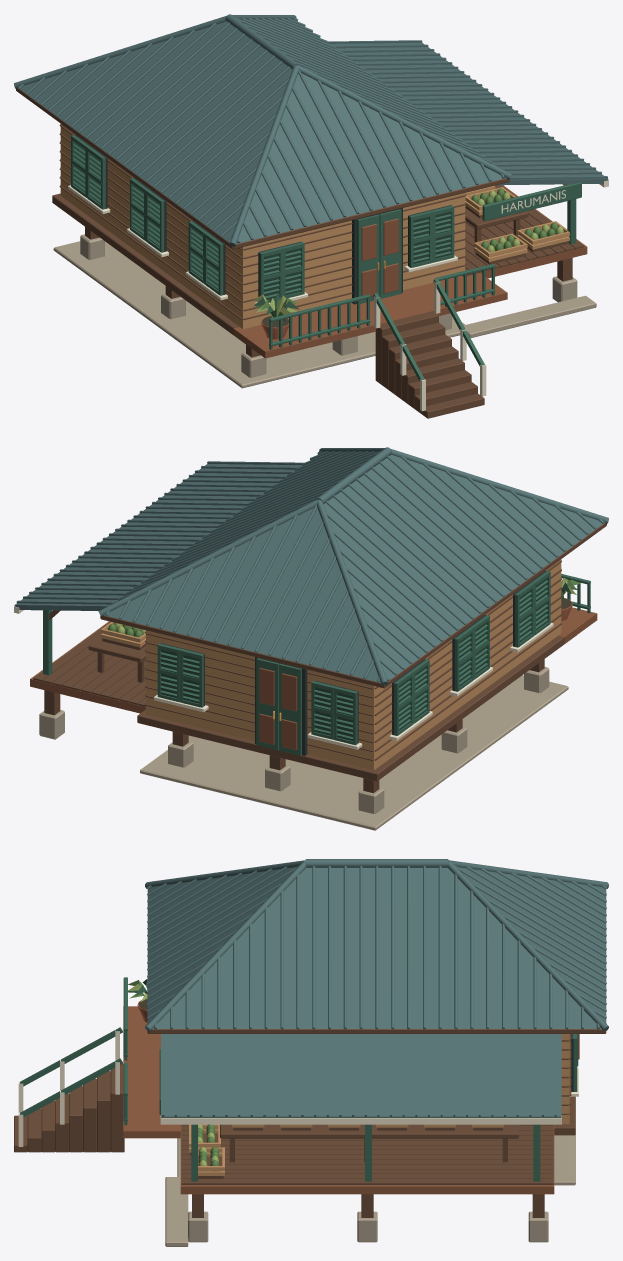
The picture shows the model from 3 angles, top to bottom: view 1: azimuth 30°, elevation 25°; view 2: azimuth 150°, elevation 25°; view 3: azimuth 270°, elevation 25°; orthographic projection. The views are drawn at different scales.
Parts seen in each view (by area): view 1: Main zinc bumbung, Raised plank house, Sorting porch, Louvred shutters, Entrance joinery, Slatted mango trays, Porch croton; view 2: Main zinc bumbung, Raised plank house, Sorting porch, Louvred shutters, Entrance joinery, Slatted mango trays; view 3: Main zinc bumbung, Sorting porch, Raised plank house, Slatted mango trays.
Boxes of the visible parts, box(x1,y1,x2,y2) form: Main zinc bumbung: box(14, 14, 511, 249); Raised plank house: box(52, 123, 577, 418); Sorting porch: box(328, 40, 608, 337); Louvred shutters: box(68, 134, 457, 308); Entrance joinery: box(352, 208, 402, 304); Slatted mango trays: box(465, 185, 569, 264); Porch croton: box(253, 293, 299, 339); Main zinc bumbung: box(98, 447, 608, 688); Raised plank house: box(39, 559, 597, 830); Sorting porch: box(14, 461, 303, 713); Louvred shutters: box(154, 570, 553, 749); Entrance joinery: box(255, 657, 307, 755); Slatted mango trays: box(100, 622, 145, 650); Main zinc bumbung: box(145, 859, 608, 1033); Sorting porch: box(159, 1034, 561, 1246); Raised plank house: box(14, 977, 575, 1242); Slatted mango trays: box(189, 1124, 503, 1178).
Bounding box in the file's own units: 10.86 × 6.81 × 13.77.
